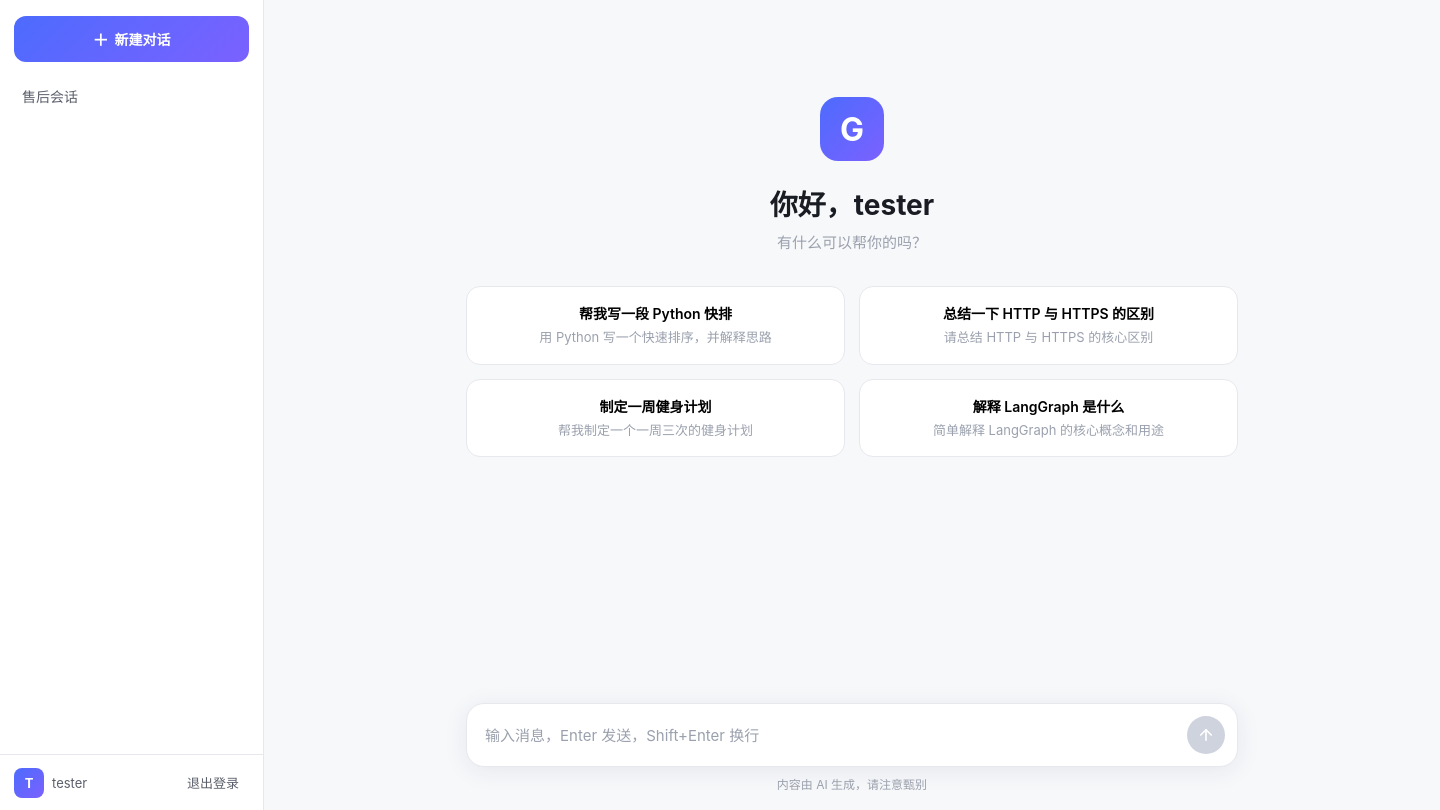
Test case: ChatPage 澄清点选回发 › streaming 期间点另一张历史卡片：不新增请求，被点卡片不出现假已选/禁用
Click the text "售后会话" at coordinates (50, 96), box [22,88,78,105]
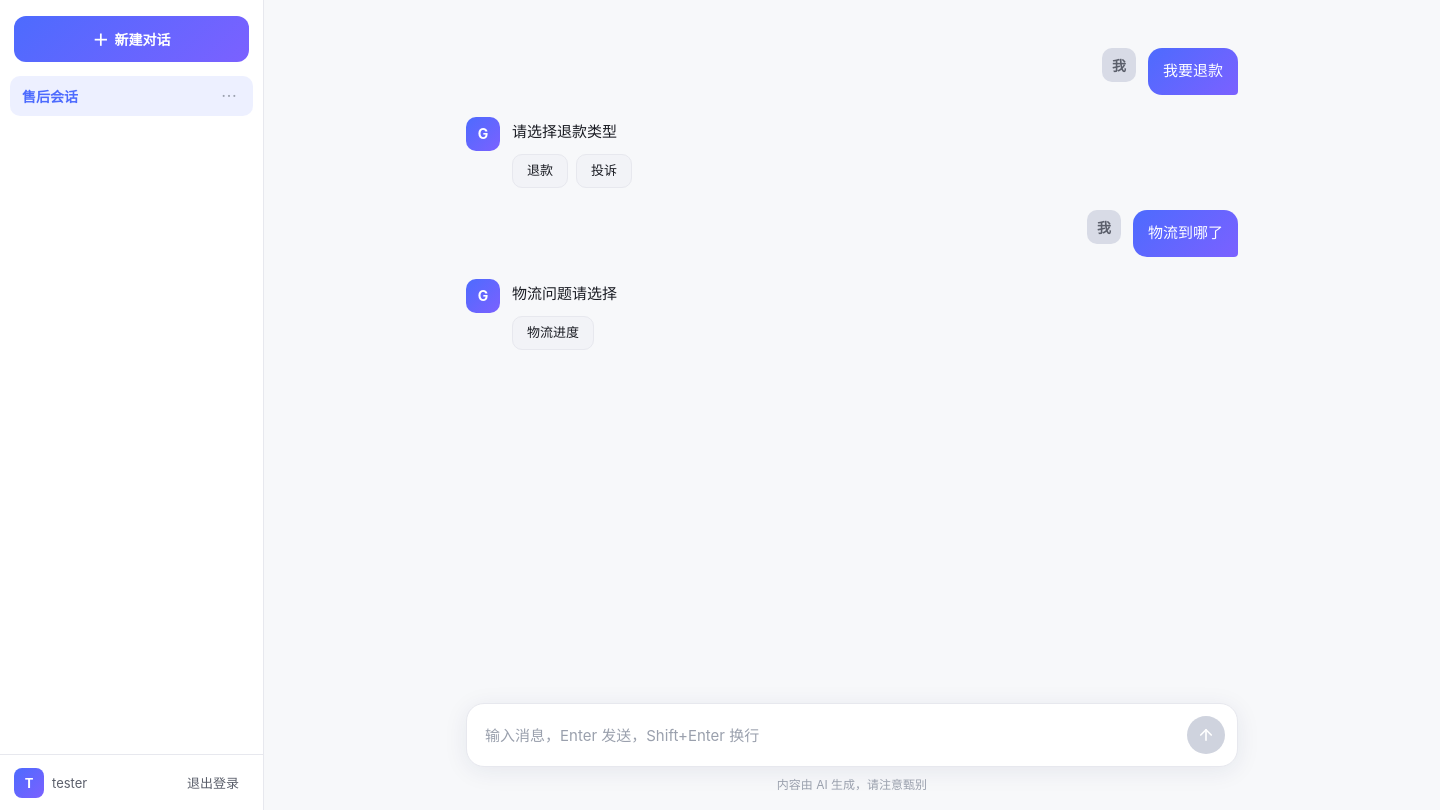
Click the button "退款" at coordinates (540, 171), box [512,154,568,188]
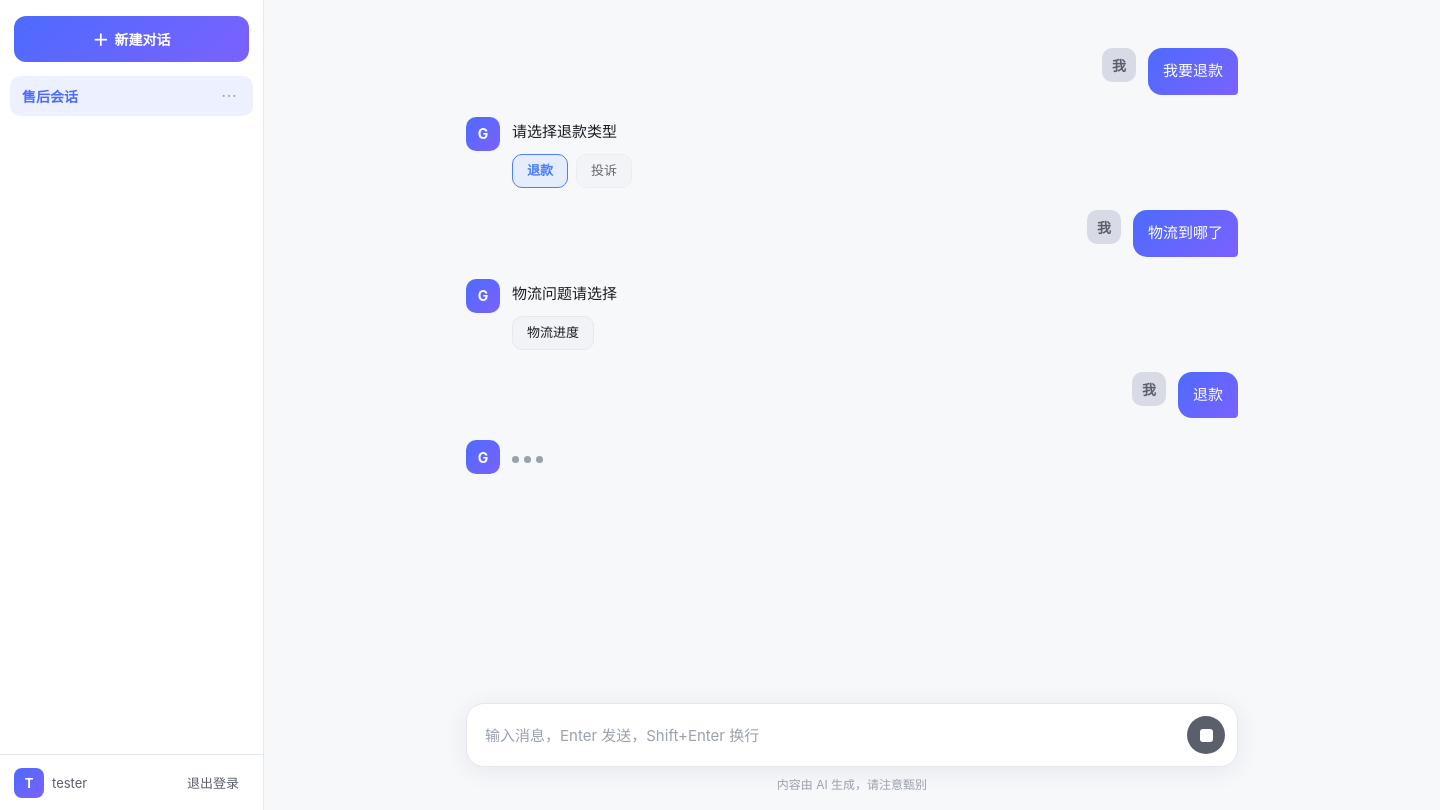
expect the button "物流进度" is enabled: met
expect the button titled "停止生成" is shown: met, box [1187,716,1225,754]
Click the button "物流进度" at coordinates (553, 333), box [512,316,594,350]
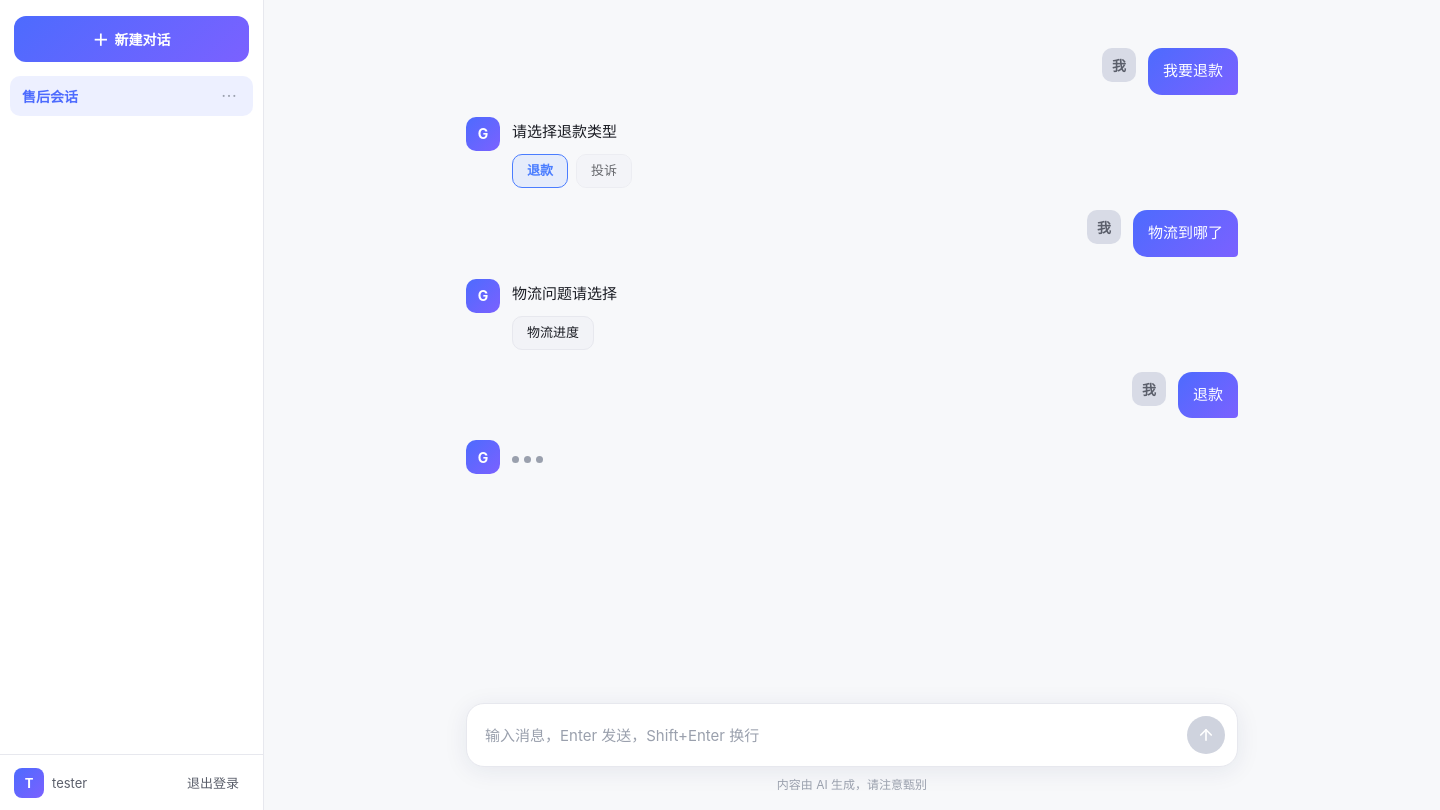
expect the button "物流进度" is enabled: met, box [512,316,594,350]
expect the button titled "发送" is shown: met, box [1187,716,1225,754]
